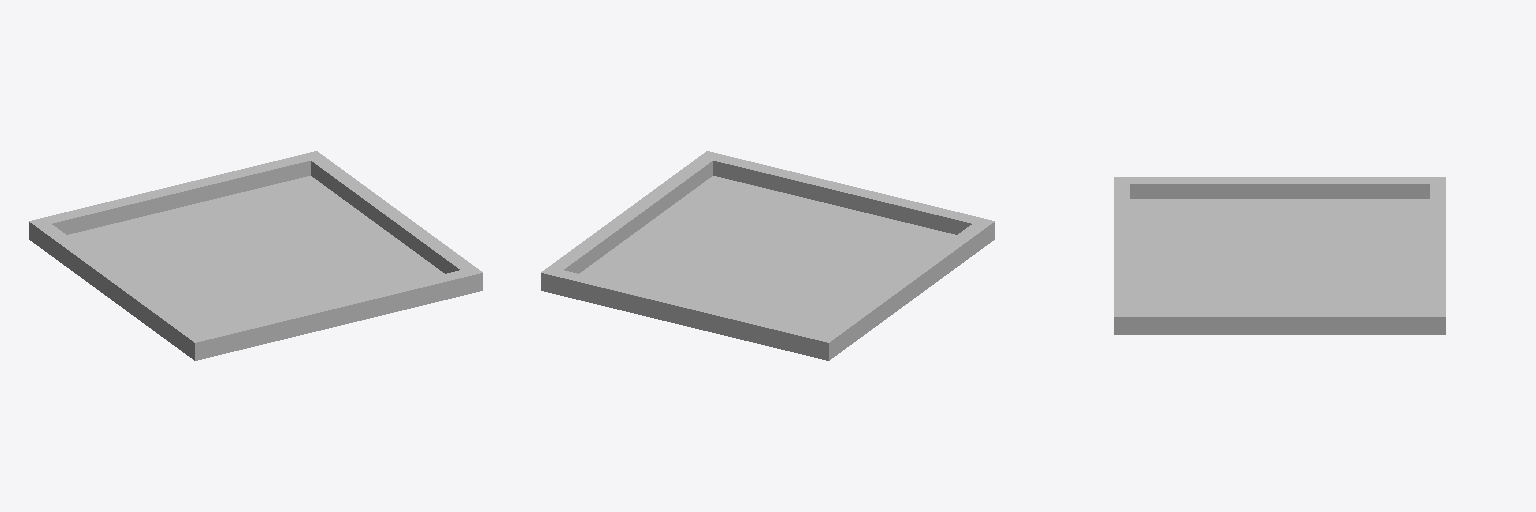
Rendered from floor.obj.
3 views of the same model, side by side, from view 1: azimuth 30°, elevation 25°; view 2: azimuth 150°, elevation 25°; view 3: azimuth 270°, elevation 25° (orthographic).
Visible parts, largest first — view 1: Plane; view 2: Plane; view 3: Plane.
Part boxes in pixels (x1,y1,x2,y2): Plane: (29, 151, 482, 360); Plane: (541, 151, 994, 360); Plane: (1114, 177, 1445, 334).
Size of the model in its own units: 10 by 0.6 by 10.